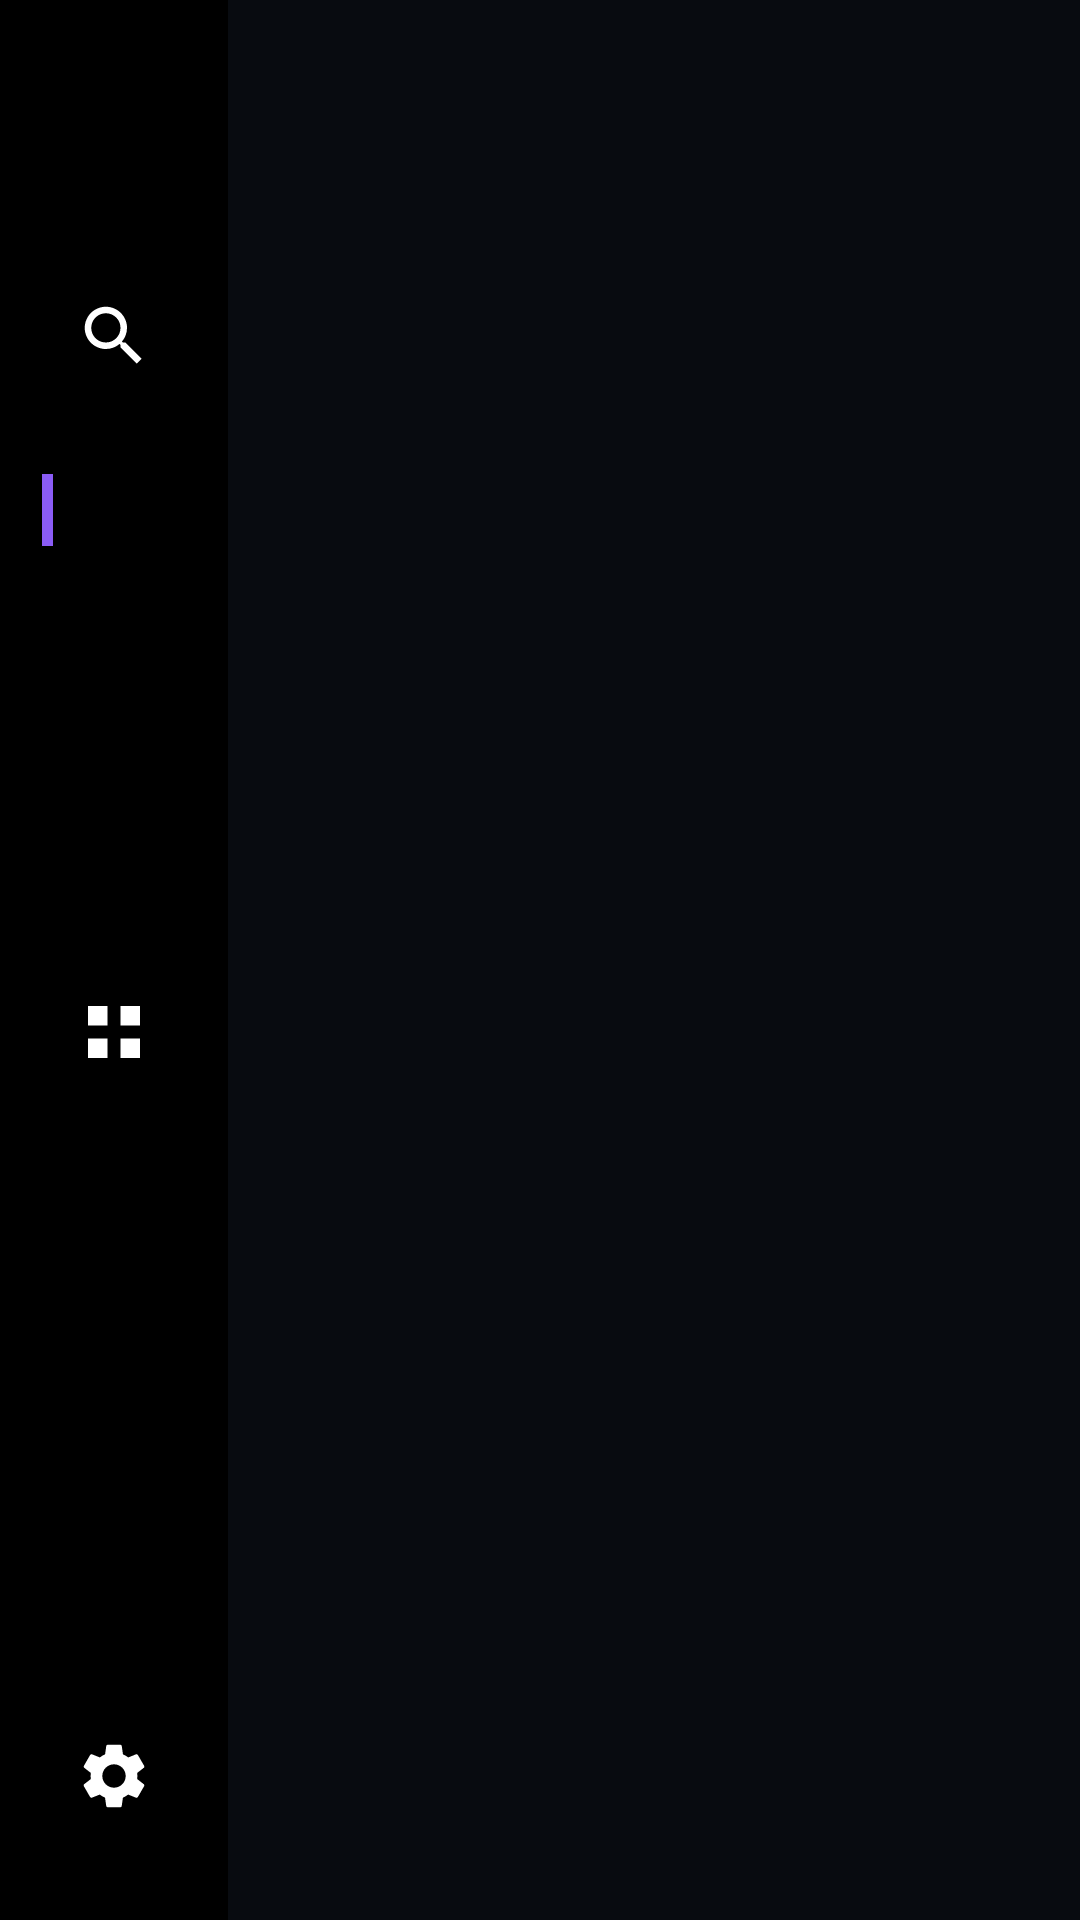

Where icons sit on this 1080*1920 app screen, as [x1,y1,x2,y2]:
Настройки: [83,1744,145,1808]
Поиск: [84,306,142,364]
Приложения: [88,1006,140,1058]
